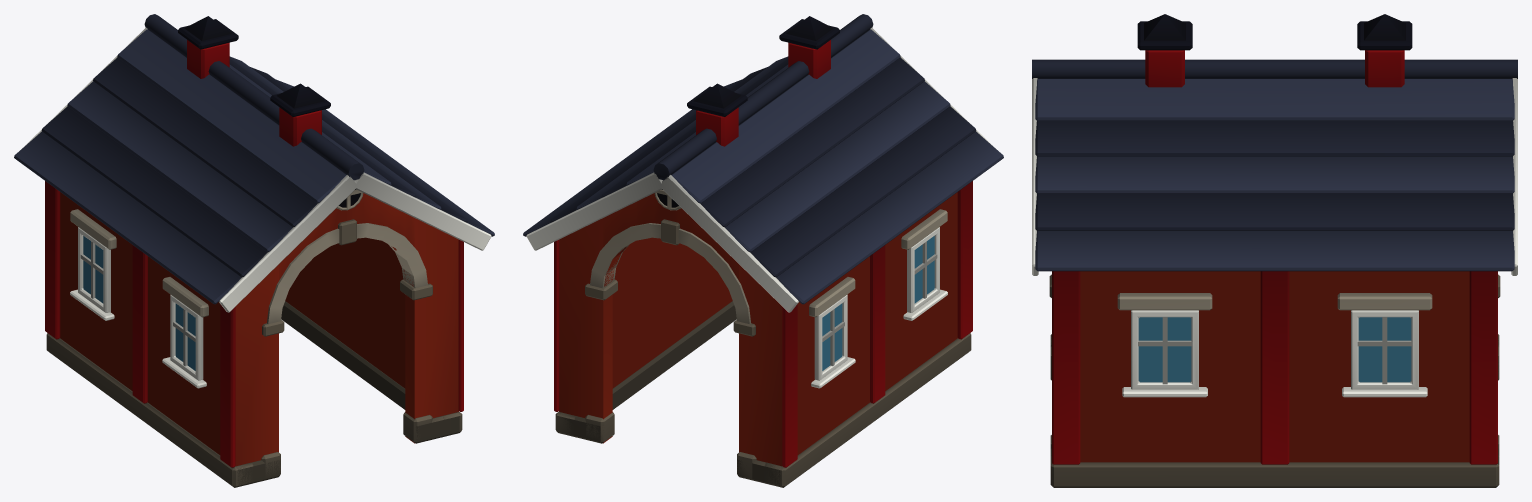
The model's file is Depot.fbx.
3 views of the same model, side by side, from view 1: azimuth 30°, elevation 25°; view 2: azimuth 150°, elevation 25°; view 3: azimuth 270°, elevation 25° (orthographic). The views are drawn at different scales.
Parts seen in each view (by area): view 1: Depot; view 2: Depot; view 3: Depot.
Boxes of the visible parts, <box> form: Depot: <box>14,14,494,487</box>; Depot: <box>523,14,1003,487</box>; Depot: <box>1032,14,1517,487</box>.
Size of the model in its own units: 3.52 by 4.1 by 4.42.
